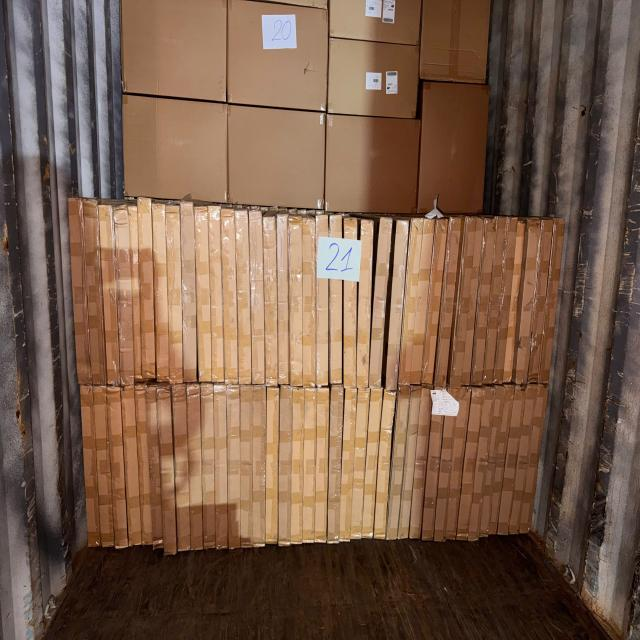Carton: (228, 1, 332, 111), (122, 98, 231, 202), (116, 0, 227, 98), (228, 106, 327, 208), (324, 114, 419, 213), (418, 81, 488, 214), (327, 38, 420, 116), (420, 0, 491, 82), (433, 216, 465, 385), (514, 214, 543, 385), (67, 197, 93, 386), (82, 199, 108, 386), (470, 217, 498, 388), (398, 217, 426, 387), (481, 217, 509, 386), (538, 216, 566, 385), (527, 216, 554, 386), (421, 220, 448, 387), (508, 384, 538, 534), (519, 384, 549, 534), (456, 385, 484, 542), (468, 384, 496, 541), (493, 216, 519, 384), (498, 384, 527, 534), (444, 386, 472, 541), (385, 386, 413, 540), (421, 384, 448, 543), (433, 384, 460, 542), (478, 384, 506, 536), (98, 203, 121, 387), (460, 218, 485, 386), (325, 0, 420, 44), (450, 216, 474, 390), (112, 205, 135, 386), (411, 218, 436, 384), (369, 215, 393, 386), (502, 216, 526, 386), (488, 386, 515, 536), (155, 383, 178, 558), (409, 382, 434, 540), (386, 219, 409, 386), (105, 382, 128, 547), (92, 384, 115, 549), (398, 385, 422, 540), (137, 196, 157, 381), (79, 385, 101, 547), (120, 385, 142, 547), (170, 384, 191, 552), (233, 210, 253, 386), (193, 205, 212, 384), (220, 208, 239, 386), (144, 384, 164, 550), (180, 201, 198, 385), (152, 202, 170, 384), (165, 203, 183, 384), (362, 388, 383, 542), (351, 386, 372, 540), (134, 385, 154, 546), (376, 387, 396, 541), (207, 205, 224, 385), (339, 386, 358, 544), (248, 210, 265, 386), (262, 215, 279, 386), (326, 386, 344, 547), (357, 219, 374, 389), (186, 382, 203, 552), (314, 384, 332, 544), (200, 382, 217, 551), (126, 205, 142, 381), (342, 214, 358, 388), (287, 215, 303, 388), (301, 385, 318, 544), (301, 216, 316, 389), (276, 214, 291, 386), (213, 384, 228, 550), (226, 384, 241, 550), (329, 212, 343, 388), (315, 214, 329, 388), (252, 384, 266, 548), (278, 384, 292, 547), (266, 385, 280, 547), (290, 387, 304, 545), (240, 384, 253, 549)
